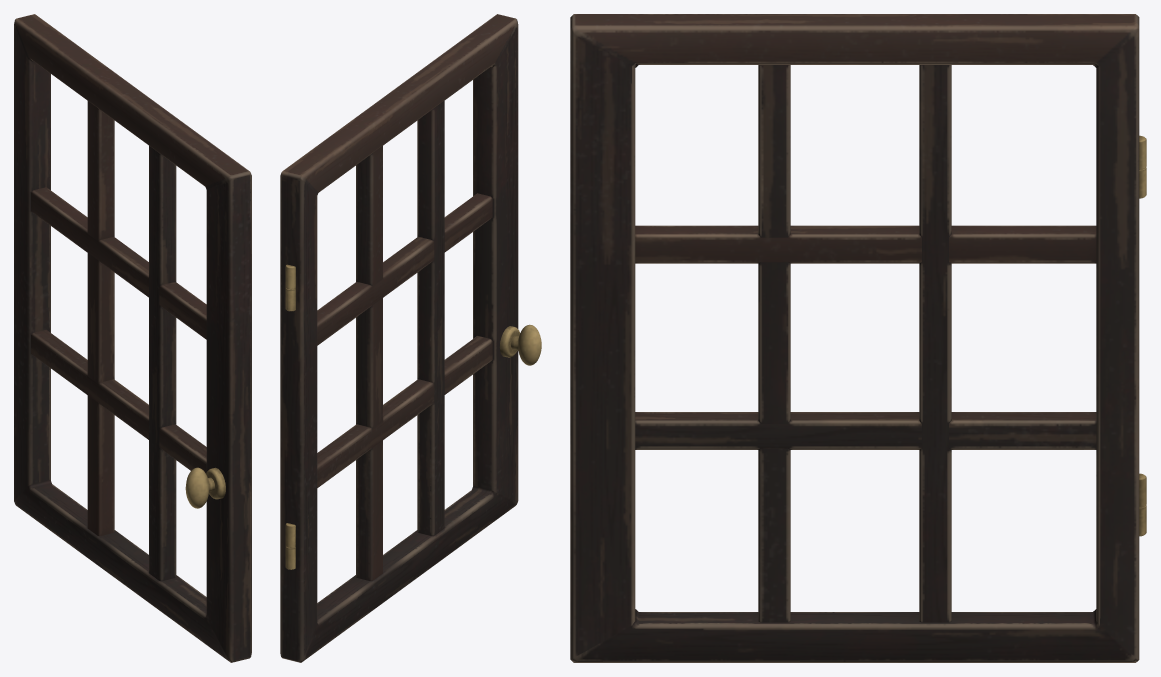
The model's file is SM_DoorBack_Top.fbx.
The picture shows the model from 3 angles, left to right: view 1: azimuth 30°, elevation 25°; view 2: azimuth 150°, elevation 25°; view 3: azimuth 270°, elevation 25°; orthographic projection. The views are drawn at different scales.
Parts seen in each view (by area): view 1: SM_DoorBack_Top_LOD0; view 2: SM_DoorBack_Top_LOD0; view 3: SM_DoorBack_Top_LOD0.
Part boxes in pixels (x1=…): SM_DoorBack_Top_LOD0: x1=14, y1=14, x2=251, y2=662; SM_DoorBack_Top_LOD0: x1=280, y1=14, x2=541, y2=662; SM_DoorBack_Top_LOD0: x1=570, y1=14, x2=1146, y2=662.
Bounding box in the file's own units: 11.67 × 81.15 × 99.02.
Materials: 1 (1 with a texture image).
